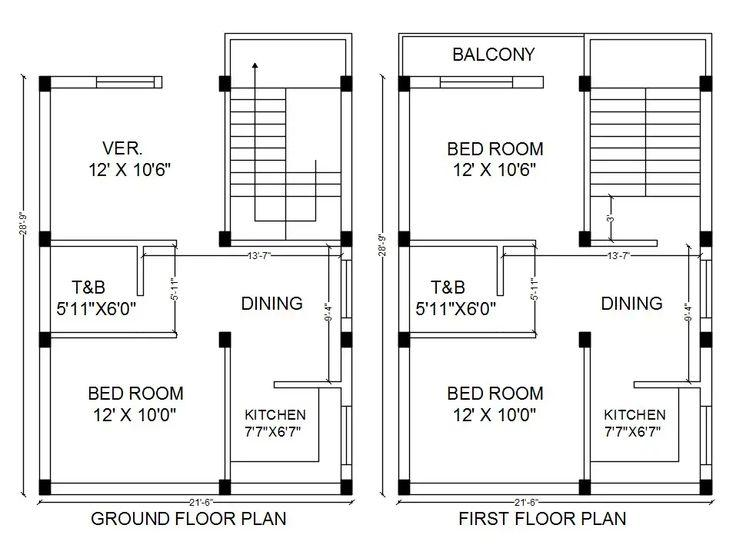Blueprint: (30, 22, 359, 502), (392, 23, 718, 502)
wall: (48, 480, 222, 497), (408, 481, 582, 496), (697, 89, 715, 234), (36, 88, 53, 233), (36, 345, 53, 483), (396, 89, 412, 234), (338, 89, 354, 232), (396, 344, 412, 483), (227, 480, 343, 497), (580, 87, 593, 233), (589, 481, 703, 497), (222, 88, 234, 235), (580, 30, 715, 43), (222, 30, 354, 43), (48, 327, 179, 340), (220, 344, 232, 484), (581, 344, 593, 483), (407, 329, 538, 341), (407, 238, 541, 249), (48, 238, 180, 249), (396, 245, 412, 335), (697, 344, 715, 409), (228, 238, 344, 248), (631, 378, 715, 390), (338, 347, 354, 407), (271, 377, 344, 390), (133, 237, 148, 299), (48, 74, 100, 91), (588, 238, 660, 250), (494, 237, 507, 299), (580, 30, 593, 81), (510, 73, 546, 91), (407, 74, 443, 91), (702, 29, 714, 79), (343, 30, 355, 79), (222, 30, 233, 77), (697, 314, 715, 336), (338, 313, 355, 335), (698, 460, 714, 483), (339, 462, 354, 484), (697, 245, 715, 263), (339, 245, 354, 261)
